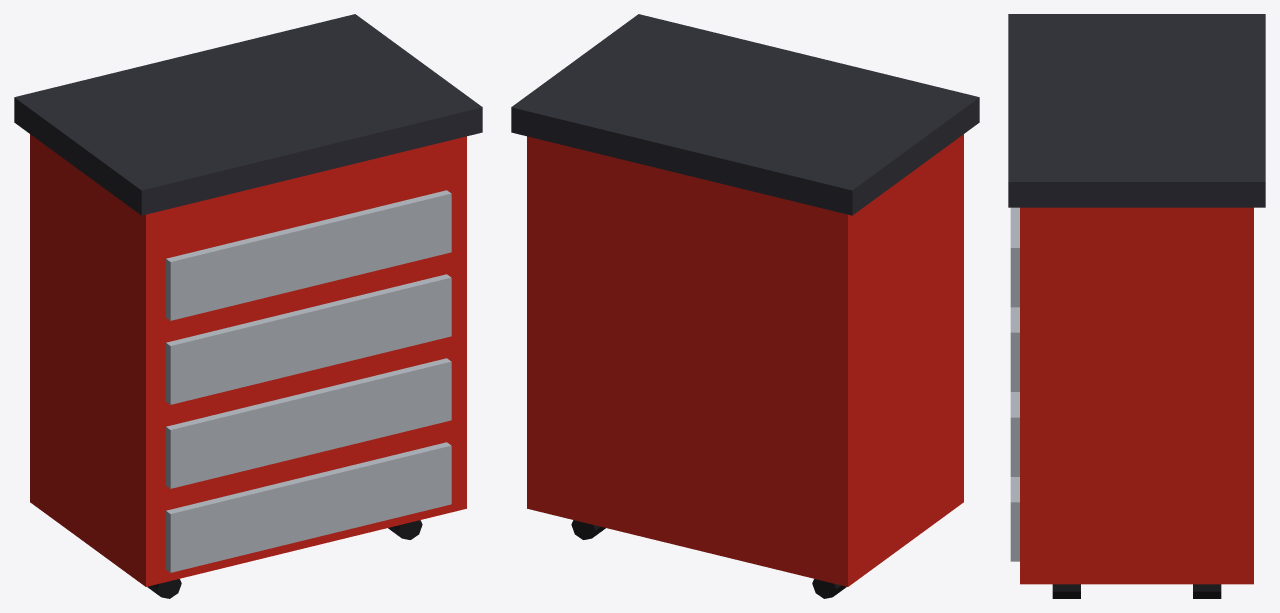
The model's file is garage_tool_chest.glb.
3 renders of one model, left to right at view 1: azimuth 30°, elevation 25°; view 2: azimuth 150°, elevation 25°; view 3: azimuth 270°, elevation 25°, orthographic.
Visible parts, largest first — view 1: tool_chest; view 2: tool_chest; view 3: tool_chest.
Part boxes in pixels (x1,y1,x2,y2): tool_chest: [14, 14, 482, 598]; tool_chest: [511, 14, 979, 598]; tool_chest: [1008, 14, 1265, 598].
Size of the model in its own units: 0.85 by 1.04 by 0.55.
